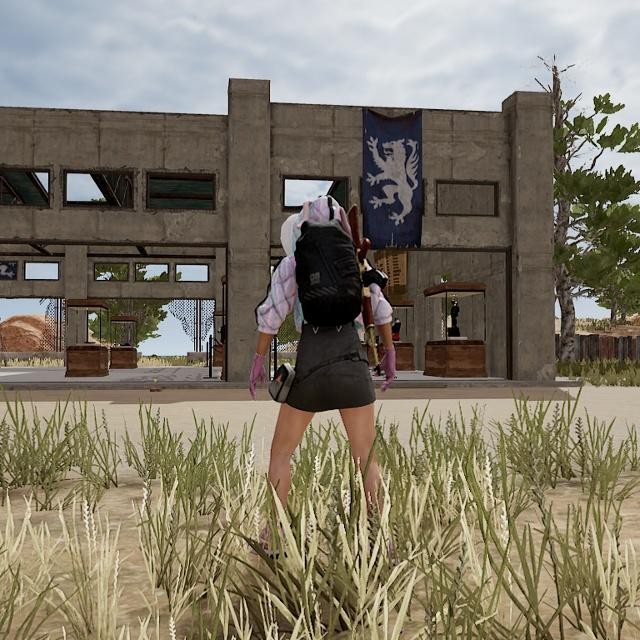people: (245, 196, 405, 538)
